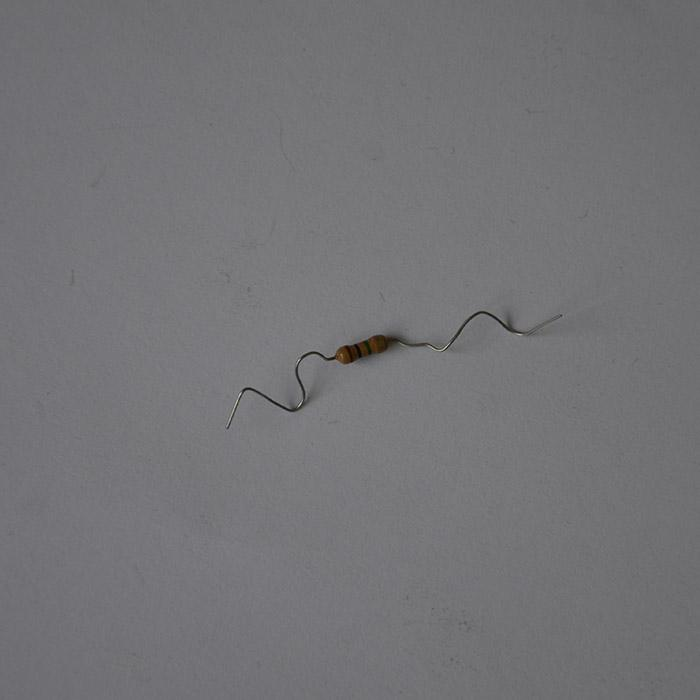resistor: (334, 334, 390, 364)
